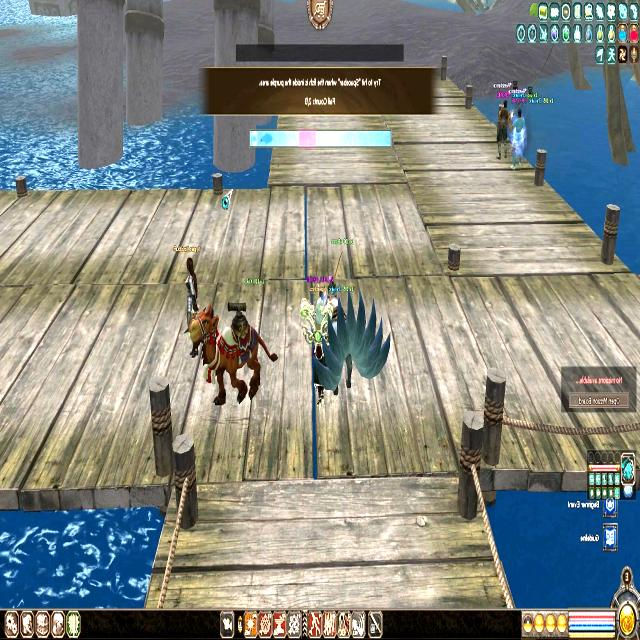fishes: (259, 129, 274, 149)
